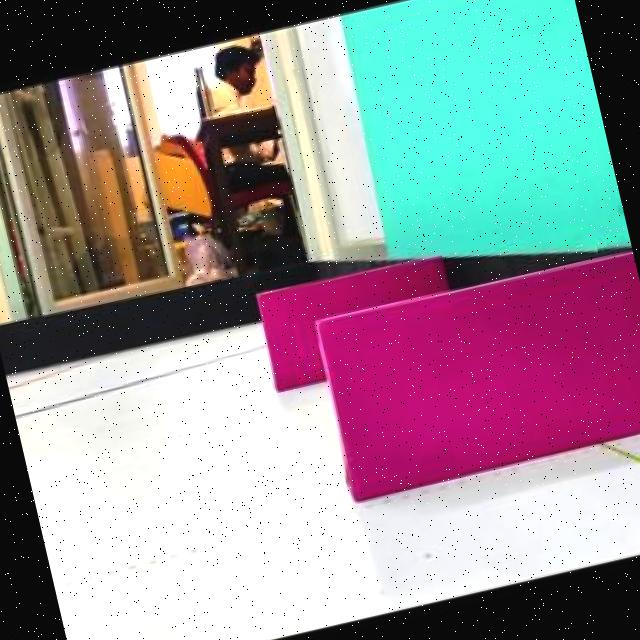xparking: (314, 260, 630, 499), (255, 288, 322, 388)
